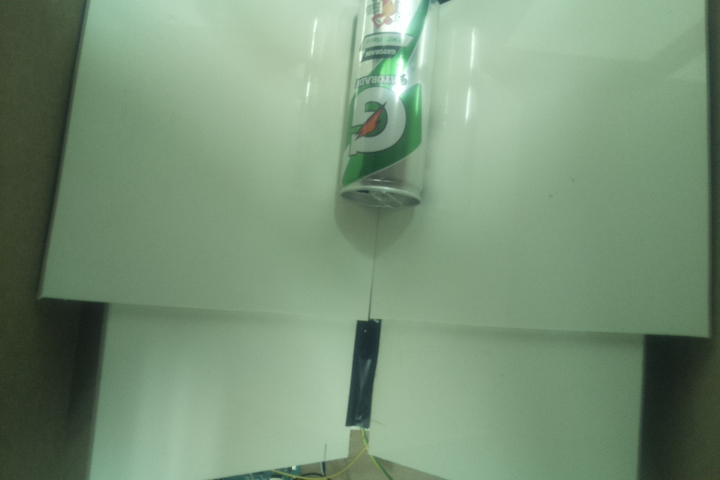can: (334, 1, 437, 212)
